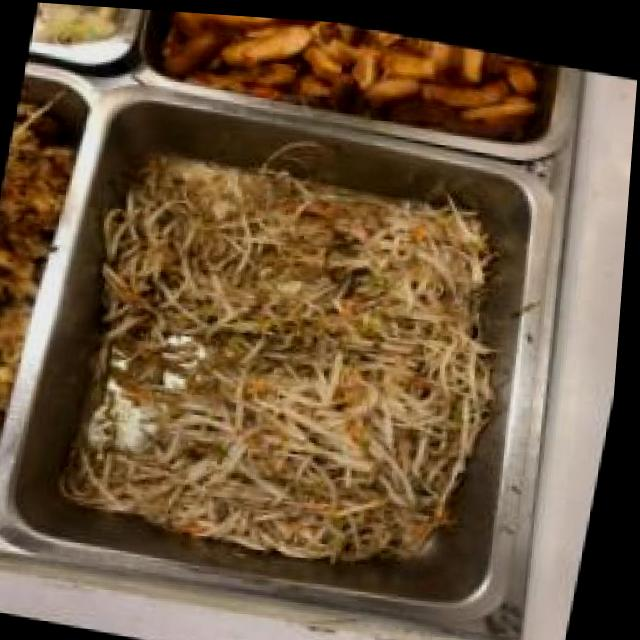mung_bean_sprouts: (65, 143, 537, 580)
